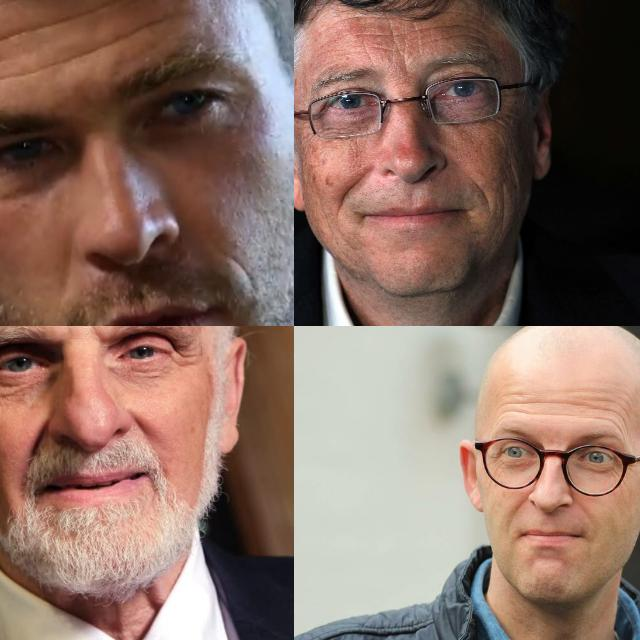crows_feet: (173, 342, 203, 368), (490, 448, 500, 467)
forehead: (0, 9, 127, 43), (38, 42, 112, 72), (368, 22, 428, 52), (439, 17, 481, 48), (130, 10, 168, 36), (585, 392, 613, 426), (498, 388, 524, 422), (0, 66, 33, 87), (618, 397, 632, 439), (534, 396, 574, 410)
frown_line: (85, 326, 107, 349)
gummy_smile: (19, 416, 53, 462), (336, 173, 359, 217), (469, 180, 496, 214), (126, 404, 152, 438), (510, 494, 528, 514)
masseter: (501, 143, 522, 187)
